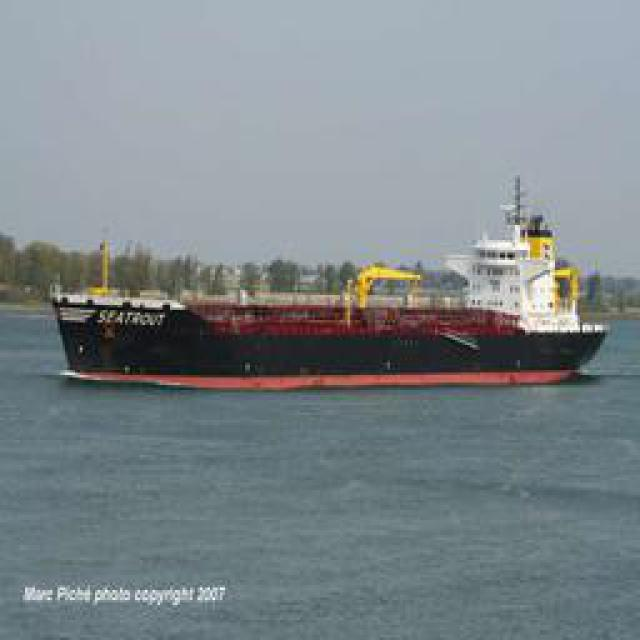Ship: (60, 192, 625, 390)
